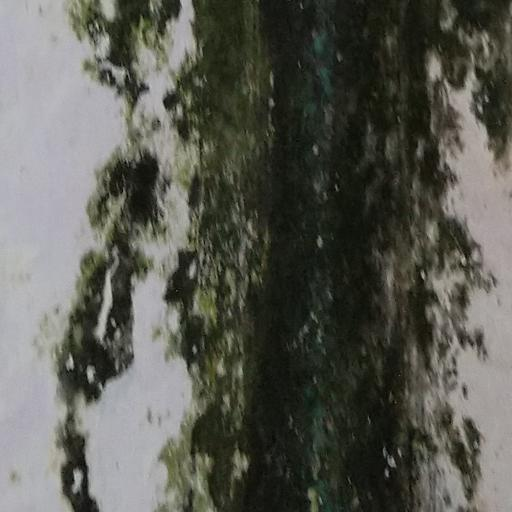algae: (67, 0, 512, 512)
